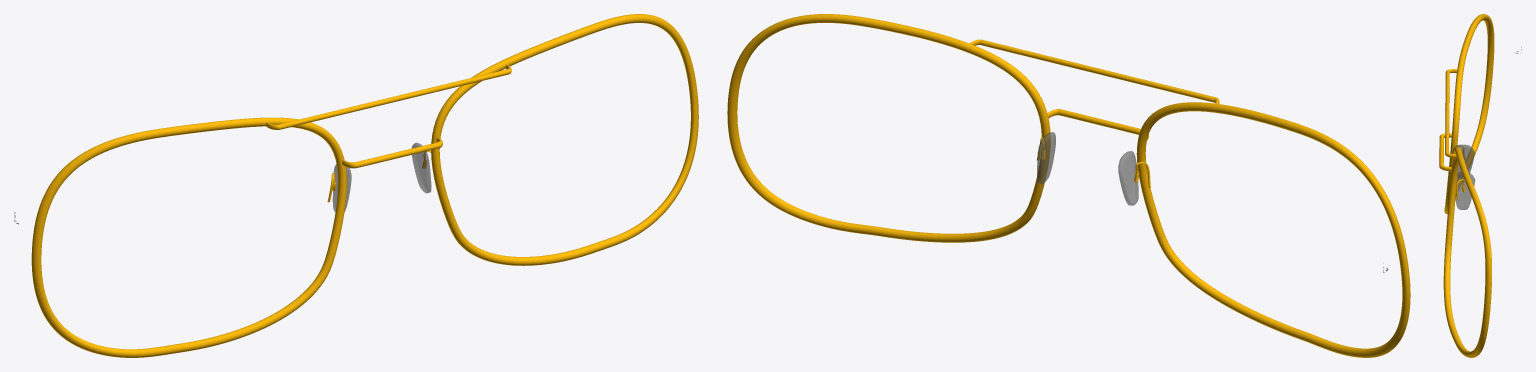
Rendered from custom-frame-4.gltf.
3 renders of one model, left to right at view 1: azimuth 30°, elevation 25°; view 2: azimuth 150°, elevation 25°; view 3: azimuth 270°, elevation 25°, orthographic. The views are drawn at different scales.
Parts seen in each view (by area): view 1: BezierCurve, Cylinder, Cylinder.002, Cylinder.001; view 2: BezierCurve, Cylinder, Cylinder.002, Cylinder.001; view 3: BezierCurve, Cylinder.002, Cylinder, Cylinder.001, BezierCurve.002.
Part boxes in pixels (box(x1,y1,x2,y2)): BezierCurve: box(31, 14, 698, 357); Cylinder: box(266, 64, 511, 129); Cylinder.002: box(332, 142, 431, 212); Cylinder.001: box(342, 137, 442, 168); BezierCurve: box(727, 14, 1410, 357); Cylinder: box(970, 39, 1219, 103); Cylinder.002: box(1037, 132, 1138, 205); Cylinder.001: box(1047, 109, 1148, 140); BezierCurve: box(1443, 14, 1494, 357); Cylinder.002: box(1453, 144, 1475, 209); Cylinder: box(1445, 69, 1457, 158); Cylinder.001: box(1439, 133, 1451, 171); BezierCurve.002: box(1456, 145, 1465, 200).
Bounding box in the file's own units: 0.9896 × 0.3105 × 0.1452.
